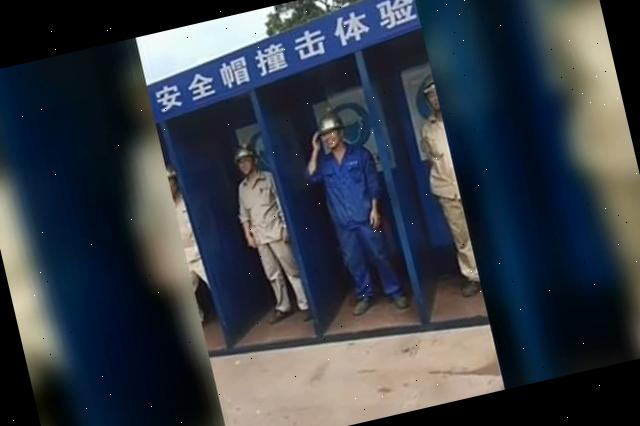helmet: (315, 115, 344, 137), (228, 144, 256, 162)
wear: (314, 144, 382, 232), (232, 169, 289, 249)
